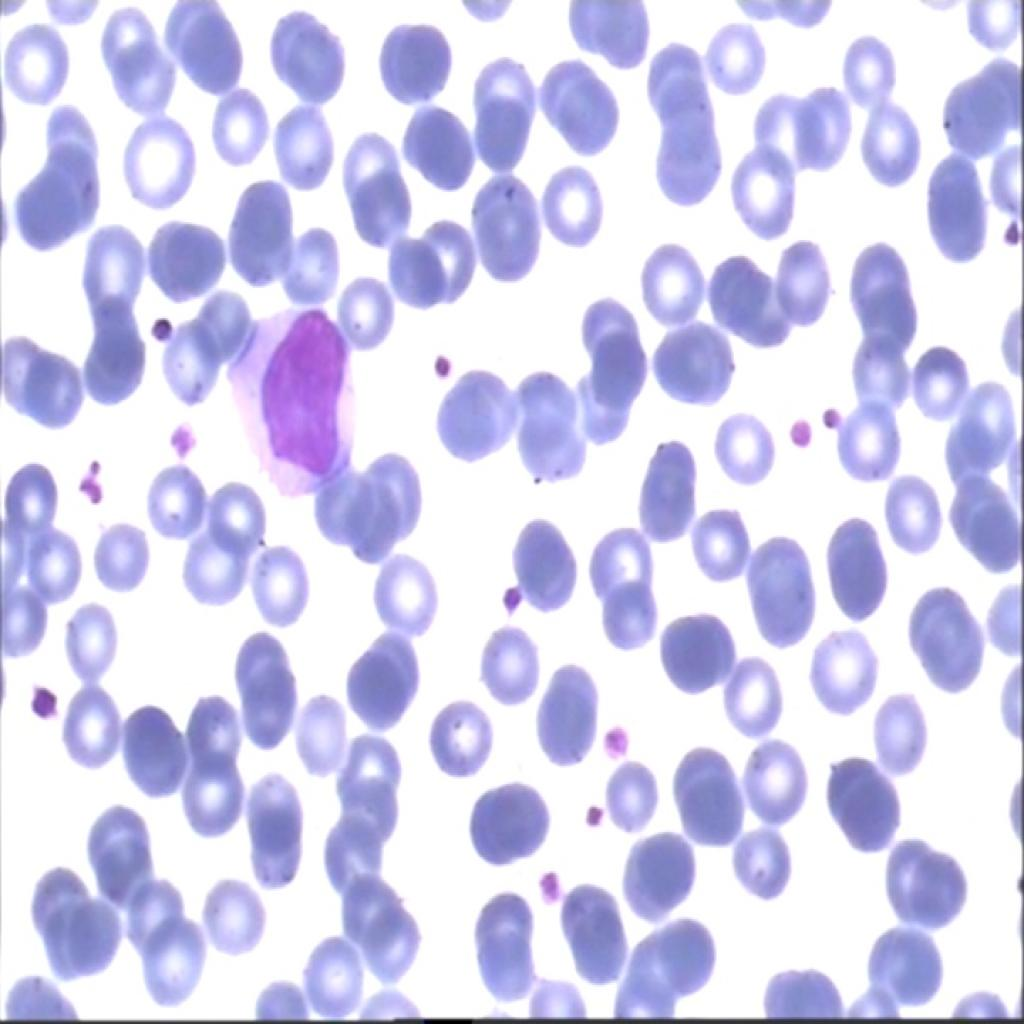Monosit: (218, 290, 370, 503)
Platelet: (24, 674, 71, 746), (66, 455, 110, 507), (489, 574, 528, 628), (422, 334, 456, 390), (781, 409, 818, 457), (159, 421, 199, 464), (535, 841, 562, 903), (145, 302, 182, 345), (818, 395, 852, 437), (572, 796, 606, 832), (604, 714, 628, 762)
